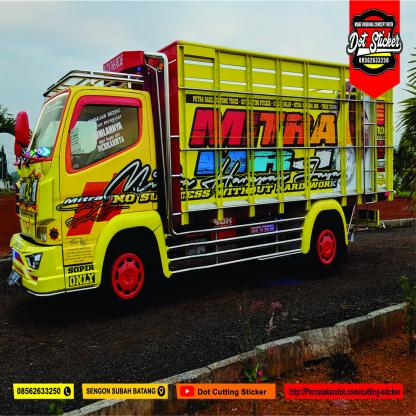truck: (8, 43, 397, 304)
